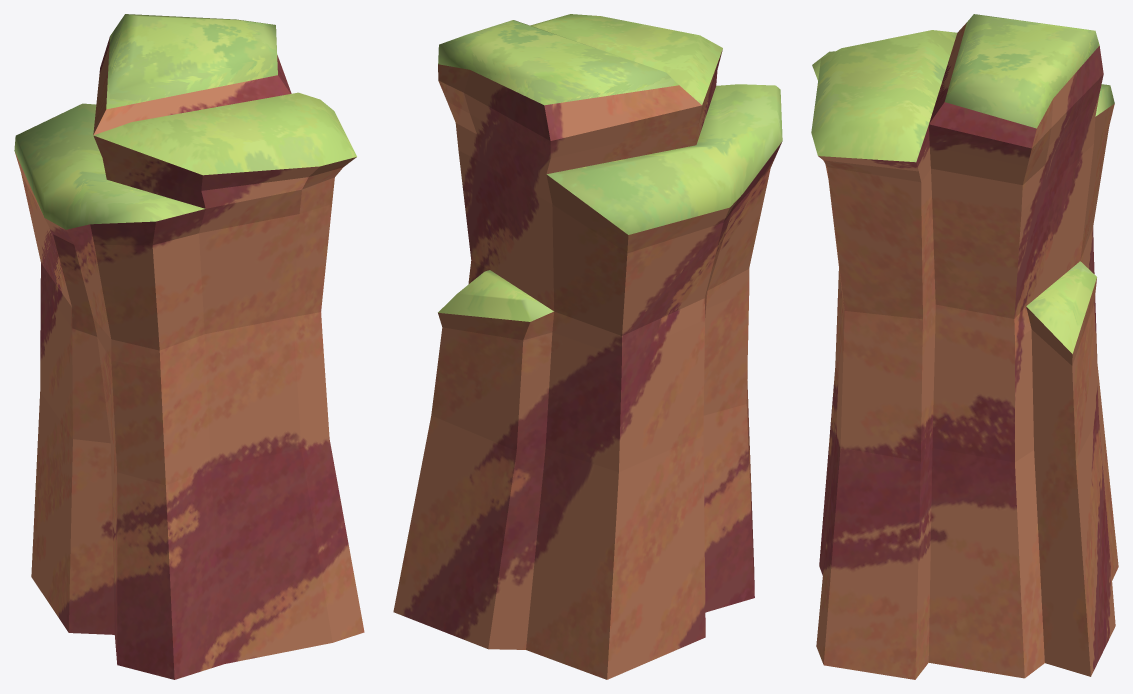
The model's file is rock7.fbx.
The picture shows the model from 3 angles, left to right: view 1: azimuth 30°, elevation 25°; view 2: azimuth 150°, elevation 25°; view 3: azimuth 270°, elevation 25°; orthographic projection. The views are drawn at different scales.
Parts seen in each view (by area): view 1: rock7; view 2: rock7; view 3: rock7.
Part boxes in pixels (left/top/right/bottom): rock7: left=14, top=14, right=364, bottom=679; rock7: left=393, top=14, right=782, bottom=679; rock7: left=811, top=14, right=1118, bottom=679.
Bounding box in the file's own units: 232 × 448 × 214.
